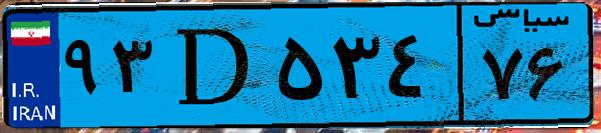3: (330, 28, 385, 110), (110, 28, 158, 98)
4: (385, 28, 445, 110)
5: (270, 28, 330, 110)
6: (525, 38, 570, 115)
7: (475, 38, 525, 113)
9: (57, 26, 110, 100)
D: (158, 12, 270, 120)
